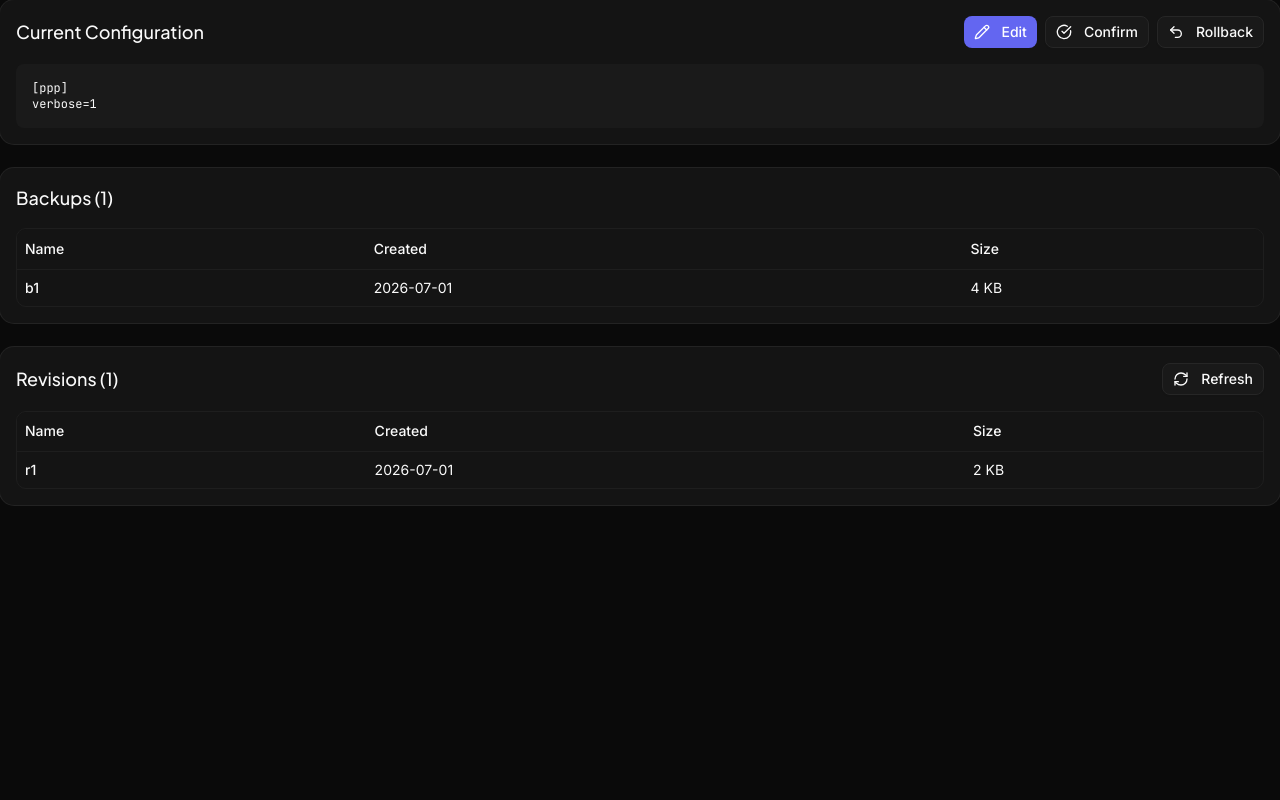
it: ConfigPage server validation › runs server-side validation and shows issues
Click the button "Edit" at [1000, 32], box [964,16,1037,48]
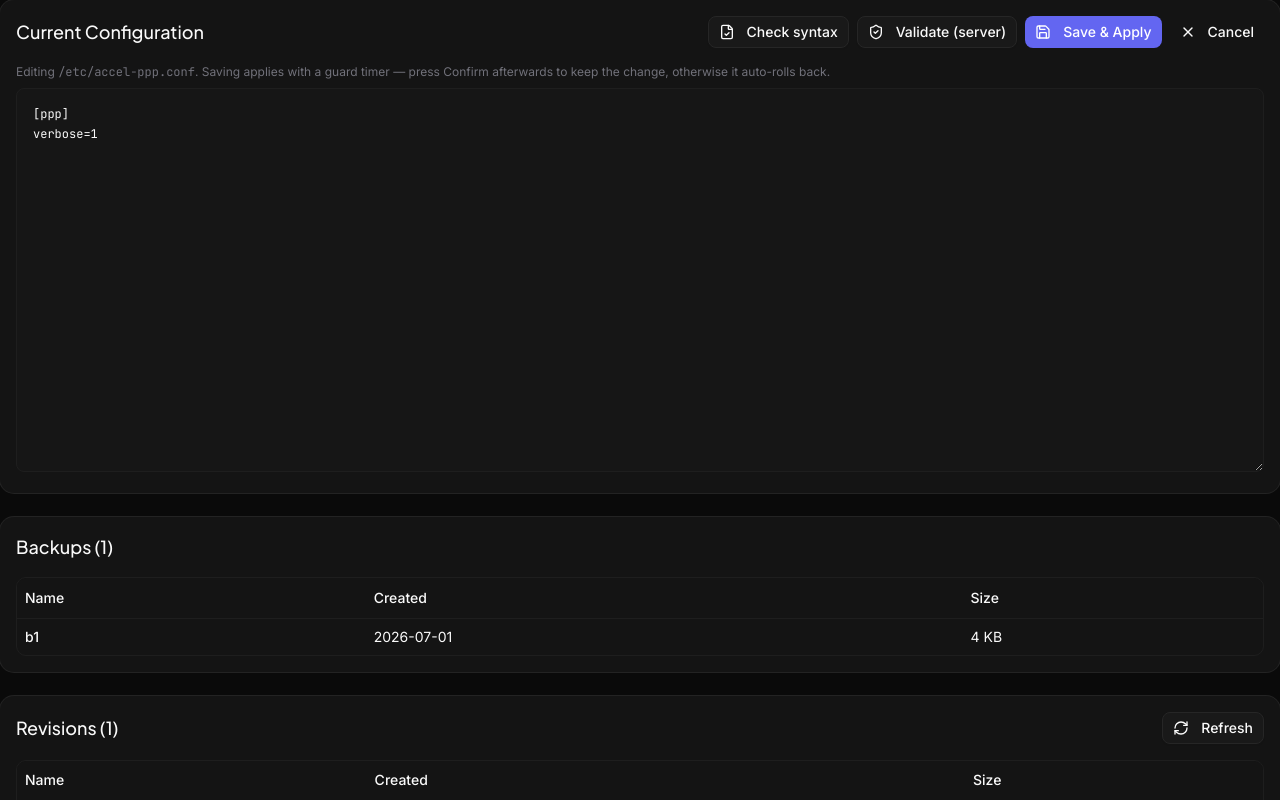
Click the button "Validate (server)" at [937, 32], box [857,16,1017,48]
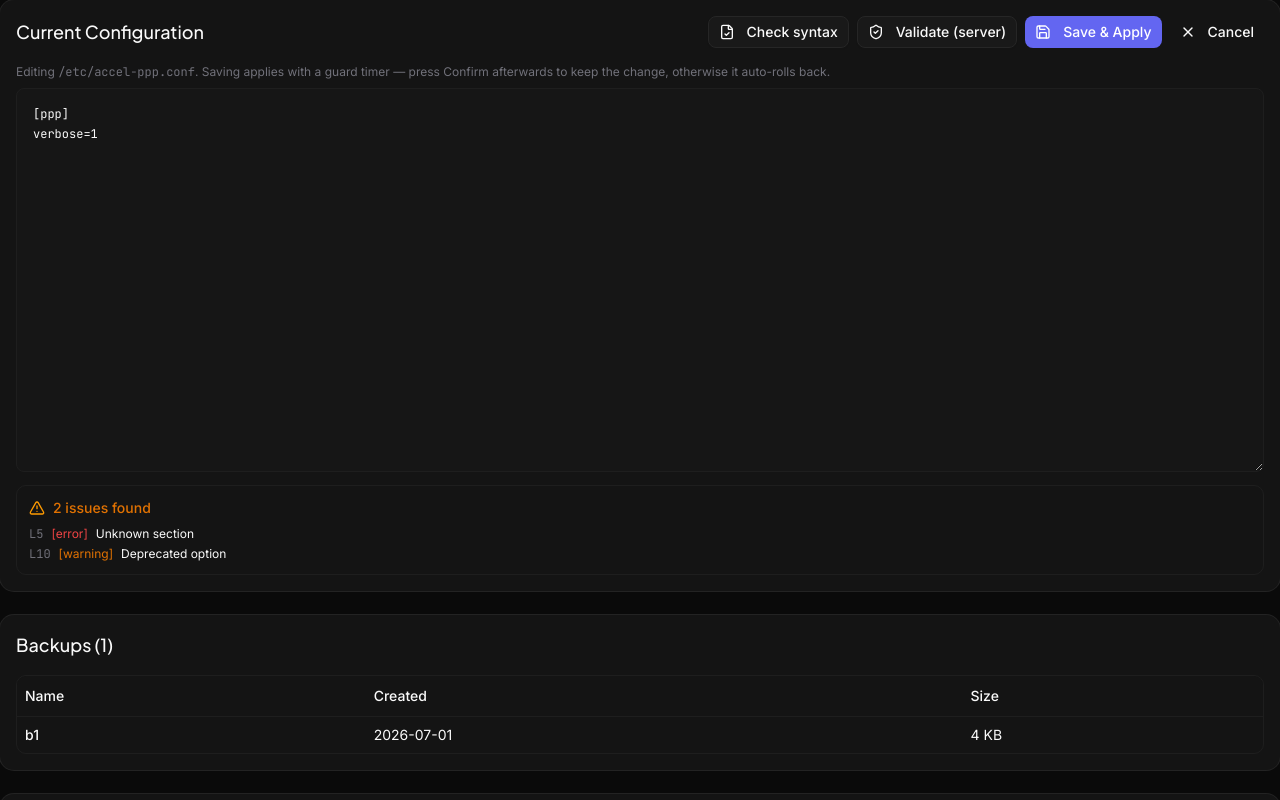
Check: the text "2 issues found" is shown, box [53,498,151,518]
Check: the text "L5" is shown, box [29,526,43,542]
Check: the text "[error]" is shown, box [51,526,88,542]
